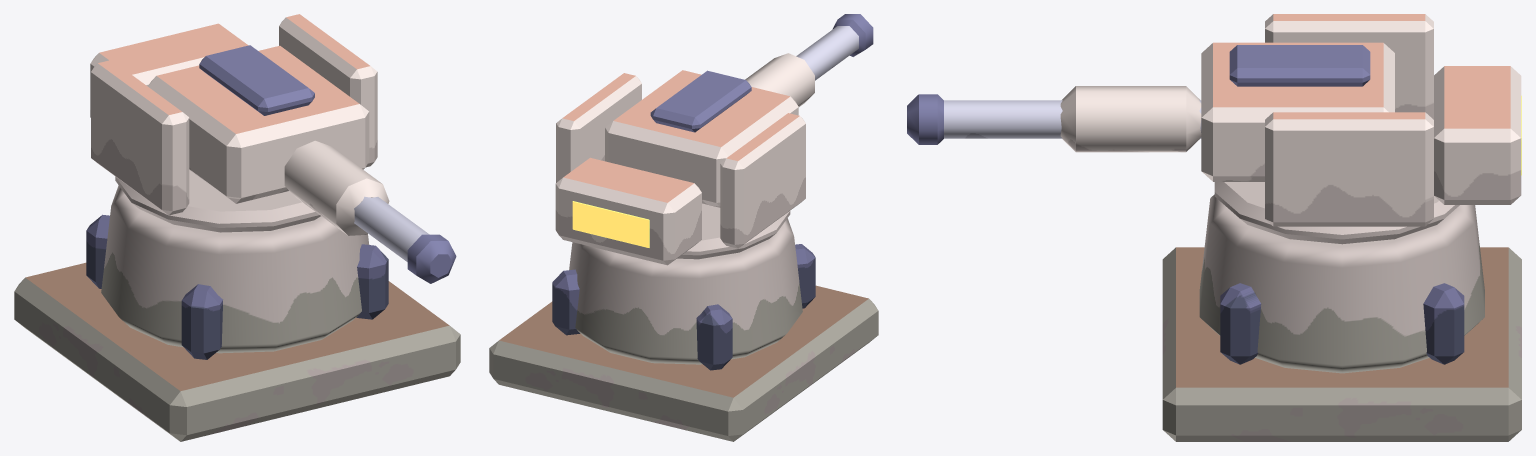
The model's file is R4W_Basic_LOD1.glb.
The picture shows the model from 3 angles, left to right: view 1: azimuth 30°, elevation 25°; view 2: azimuth 150°, elevation 25°; view 3: azimuth 270°, elevation 25°; orthographic projection. The views are drawn at different scales.
Parts seen in each view (by area): view 1: R4W_Basic_LOD1; view 2: R4W_Basic_LOD1; view 3: R4W_Basic_LOD1.
Boxes of the visible parts, x1,y1,x2,y2 form: R4W_Basic_LOD1: [14, 14, 460, 441]; R4W_Basic_LOD1: [489, 14, 878, 441]; R4W_Basic_LOD1: [907, 14, 1521, 441].
Bounding box in the file's own units: 0.51 × 0.494 × 0.873.
5 materials, 4 textured.
